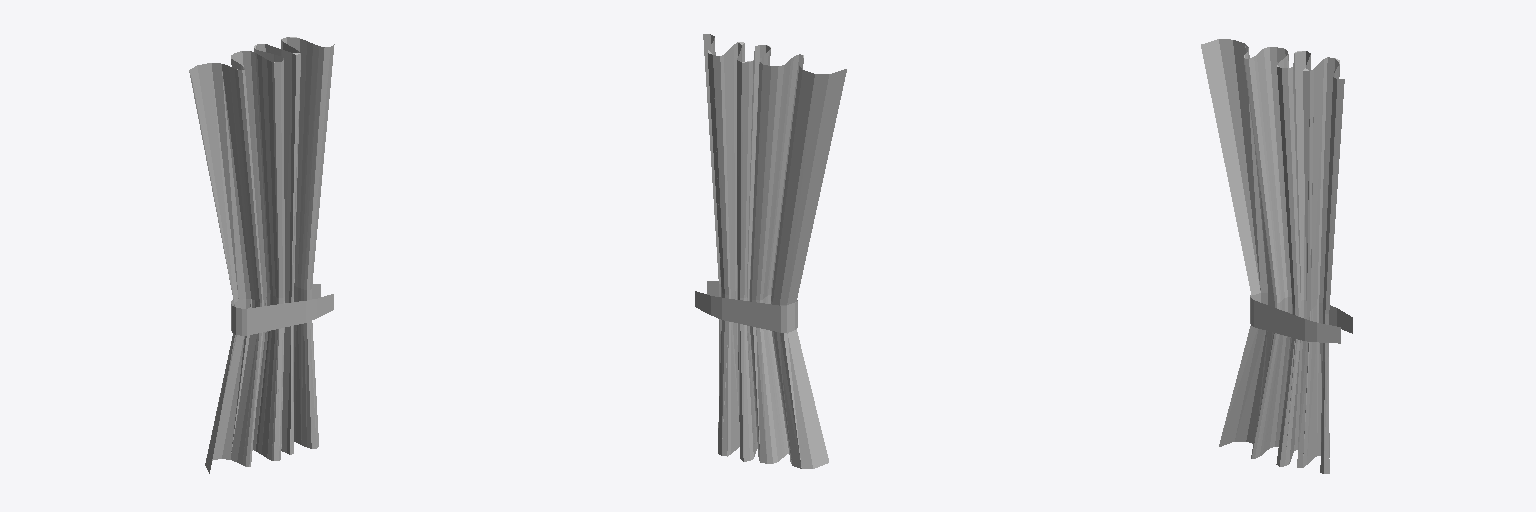
Rendered from curtain_tied.obj.
3 views of the same model, side by side, from view 1: azimuth 30°, elevation 25°; view 2: azimuth 150°, elevation 25°; view 3: azimuth 330°, elevation 25° (orthographic).
Visible parts, largest first — view 1: Plane, Plane.003, Plane.001, Plane.002; view 2: Plane, Plane.003, Plane.001, Plane.002; view 3: Plane, Plane.003, Plane.001, Plane.002.
Part boxes in pixels (x1,y1,x2,y2): Plane: (189,39,329,466); Plane.003: (189,37,334,473); Plane.001: (231,284,333,335); Plane.002: (231,284,333,335); Plane: (703,34,846,468); Plane.003: (708,34,846,468); Plane.001: (695,281,797,332); Plane.002: (695,281,797,332); Plane: (1201,39,1339,473); Plane.003: (1201,39,1344,463); Plane.001: (1250,295,1352,343); Plane.002: (1250,298,1352,342).
Size of the model in its own units: 7.19 by 19.11 by 2.19.